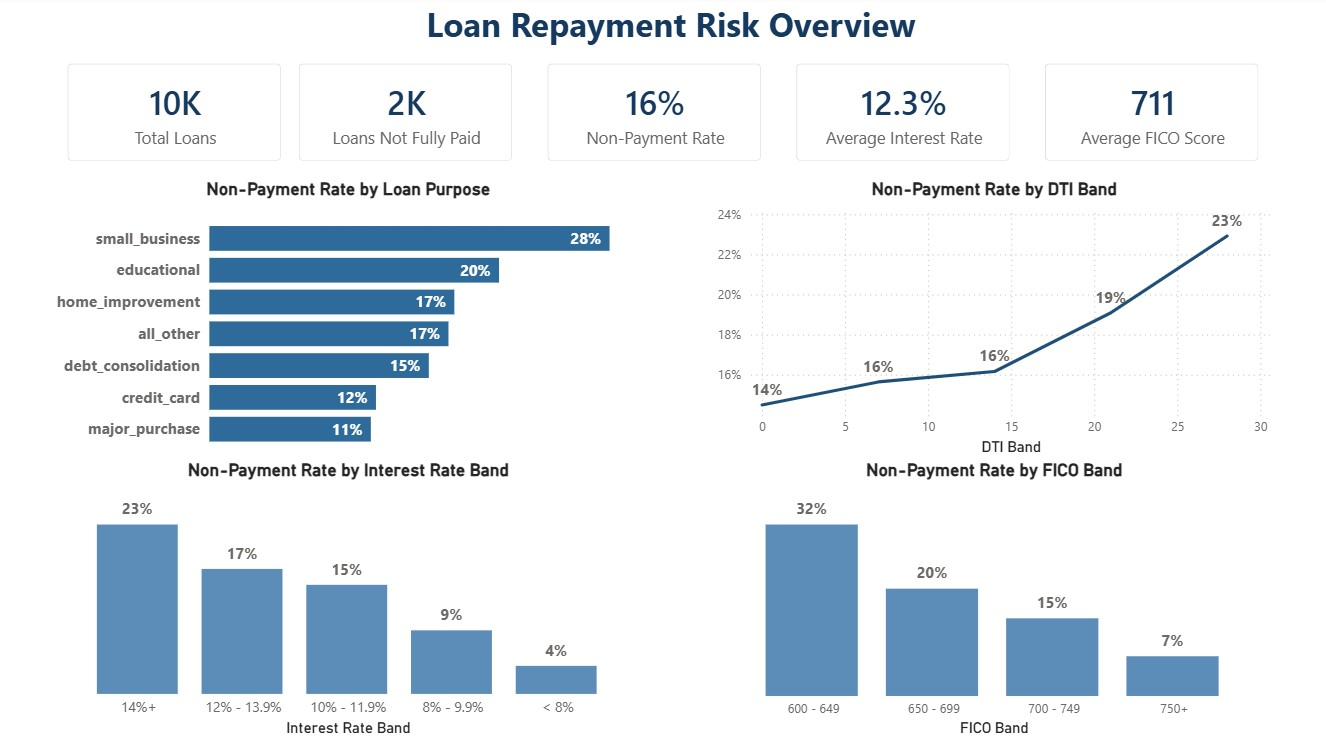

The dashboard page shown, as its layout file describes it:
{"tool":"powerbi","page":{"name":"Risk Overview","canvas":[1280,720],"ordinal":0},"visuals":[{"type":"cardVisual","fields":{"Data":["Measures_loan.Average FICO Score"]},"box":[992,48,240,128],"z":0},{"type":"cardVisual","fields":{"Data":["Measures_loan.Average Interest Rate"]},"box":[752,48,240,128],"z":1000},{"type":"cardVisual","fields":{"Data":["Measures_loan.Not Fully Paid Count"]},"box":[272,48,240,128],"z":2000},{"type":"cardVisual","fields":{"Data":["Measures_loan.Not Fully Paid Rate"]},"box":[512,48,240,128],"z":3000},{"type":"cardVisual","fields":{"Data":["Measures_loan.Total Loans"]},"box":[48,48,240,128],"z":4000},{"type":"barChart","title":"Non-Payment Rate by Loan Purpose","fields":{"Y":["Measures_loan.Not Fully Paid Rate"],"Category":["loan_data.Purpose"]},"box":[48,176,576,272],"z":5000},{"type":"columnChart","title":"Non-Payment Rate by FICO Band","fields":{"Y":["Measures_loan.Not Fully Paid Rate"],"Category":["loan_data.FICO Band"]},"box":[688,448,544,272],"z":6000},{"type":"columnChart","title":"Non-Payment Rate by Interest Rate Band","fields":{"Category":["loan_data.Interest Rate Band"],"Y":["Measures_loan.Not Fully Paid Rate"]},"box":[48,448,576,272],"z":7000},{"type":"lineChart","title":"Non-Payment Rate by DTI Band","fields":{"Y":["Measures_loan.Not Fully Paid Rate"],"Category":["loan_data.DTI (bins)"]},"box":[688,176,544,272],"z":8000},{"type":"textbox","box":[384,0,528,64],"z":9000}]}

Visuals, with their boxes in screenshot pixels (x1, y1, x2, y2), scaled from the page's 1280x720 canvas onto the 1326x740 screenshot:
cardVisual - Measures_loan.Average FICO Score: detection(1028, 49, 1276, 181)
cardVisual - Measures_loan.Average Interest Rate: detection(779, 49, 1028, 181)
cardVisual - Measures_loan.Not Fully Paid Count: detection(282, 49, 530, 181)
cardVisual - Measures_loan.Not Fully Paid Rate: detection(530, 49, 779, 181)
cardVisual - Measures_loan.Total Loans: detection(50, 49, 298, 181)
"Non-Payment Rate by Loan Purpose" barChart: detection(50, 181, 646, 460)
"Non-Payment Rate by FICO Band" columnChart: detection(713, 460, 1276, 739)
"Non-Payment Rate by Interest Rate Band" columnChart: detection(50, 460, 646, 739)
"Non-Payment Rate by DTI Band" lineChart: detection(713, 181, 1276, 460)
textbox: detection(398, 0, 945, 66)
